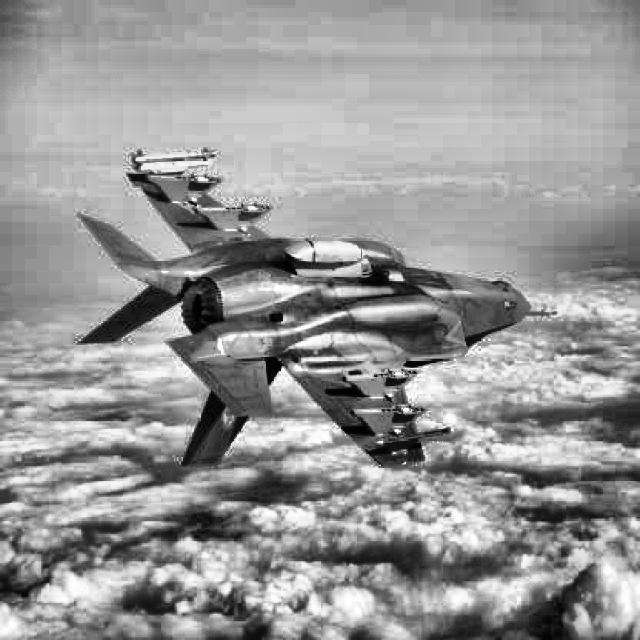F35: (77, 146, 557, 468)
